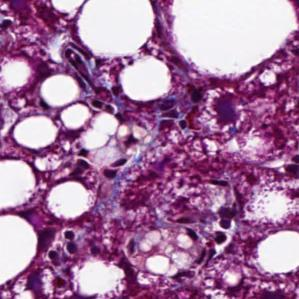inflammation: (203, 86, 243, 133), (210, 203, 240, 253), (154, 96, 190, 136), (56, 227, 80, 259), (278, 153, 299, 183)
